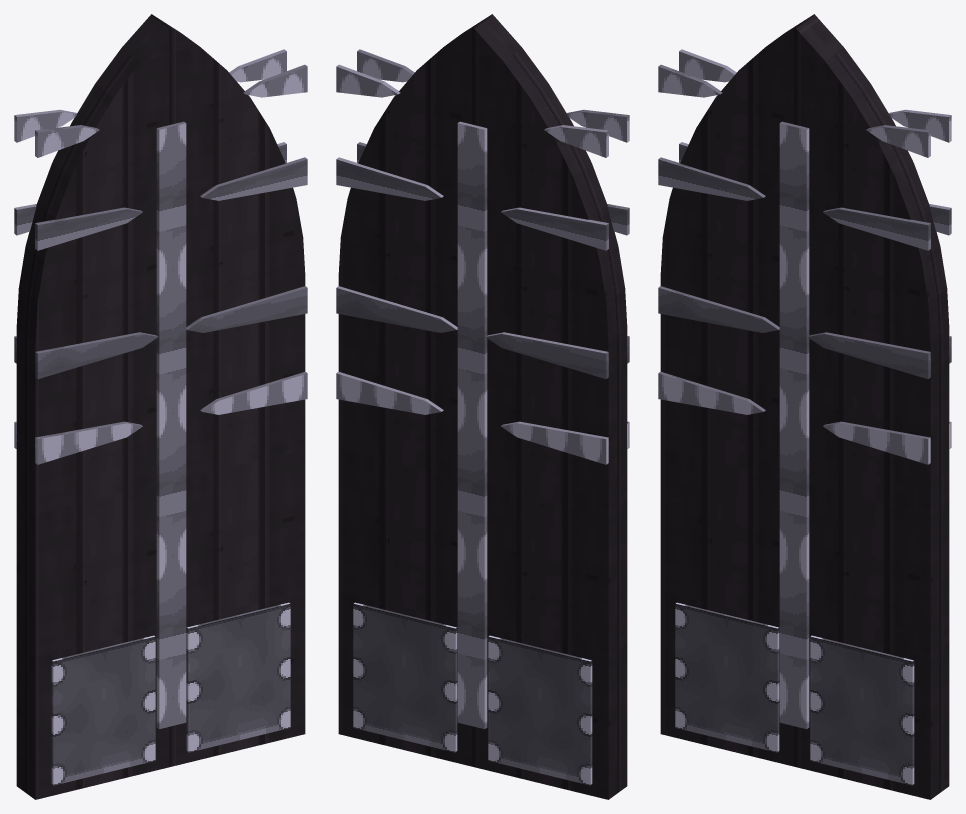
File: bosstor_gross_a_fluegel.glb
The picture shows the model from 3 angles, left to right: view 1: azimuth 30°, elevation 25°; view 2: azimuth 150°, elevation 25°; view 3: azimuth 330°, elevation 25°; orthographic projection.
Parts seen in each view (by area): view 1: leaf_b, leaf_a; view 2: leaf_b, leaf_a; view 3: leaf_a, leaf_b.
Boxes of the visible parts, left/top/right/bottom form: leaf_b: left=14, top=14, right=172, bottom=799; leaf_a: left=153, top=15, right=307, bottom=766; leaf_b: left=471, top=14, right=629, bottom=799; leaf_a: left=336, top=15, right=490, bottom=766; leaf_a: left=793, top=14, right=951, bottom=799; leaf_b: left=658, top=15, right=812, bottom=766.
Size of the model in its own units: 1.98 by 5.18 by 0.3.
1 material, 1 textured.
